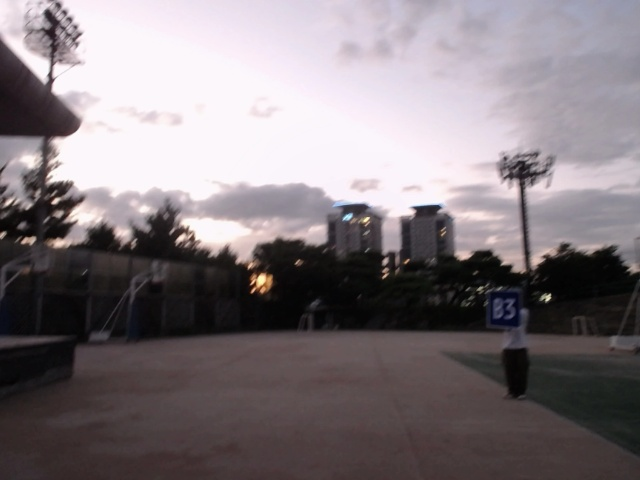delivery_b3: (488, 289, 522, 330)
